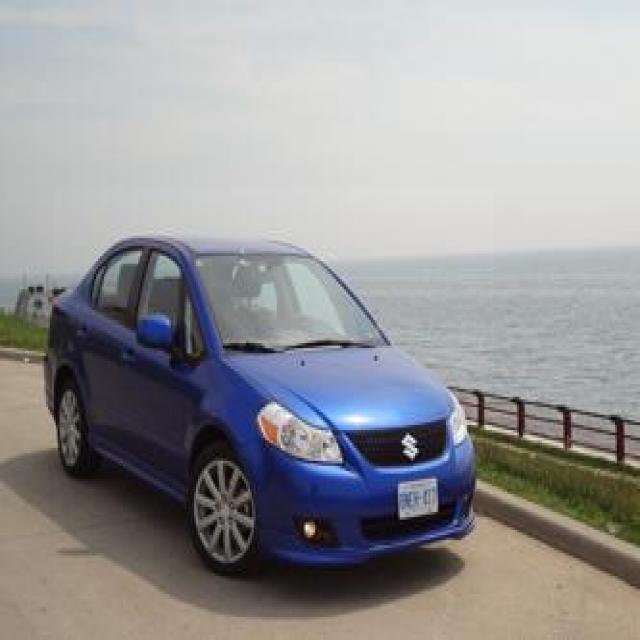Car: (54, 188, 494, 588)
